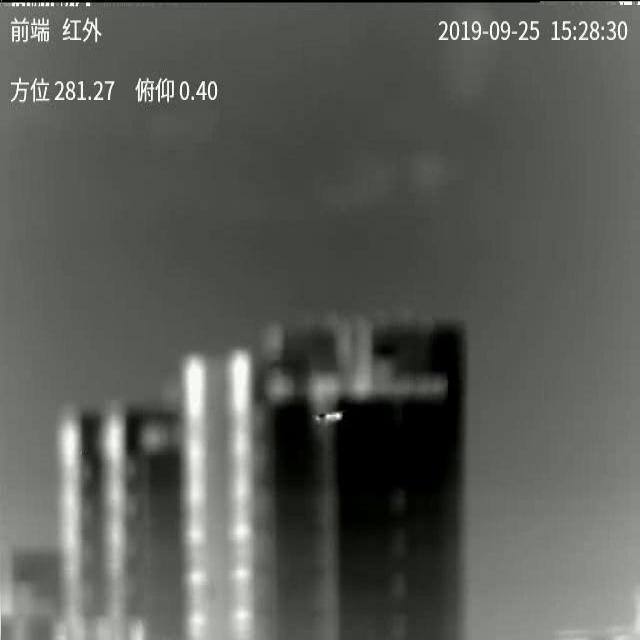drone: (313, 412, 342, 422)
